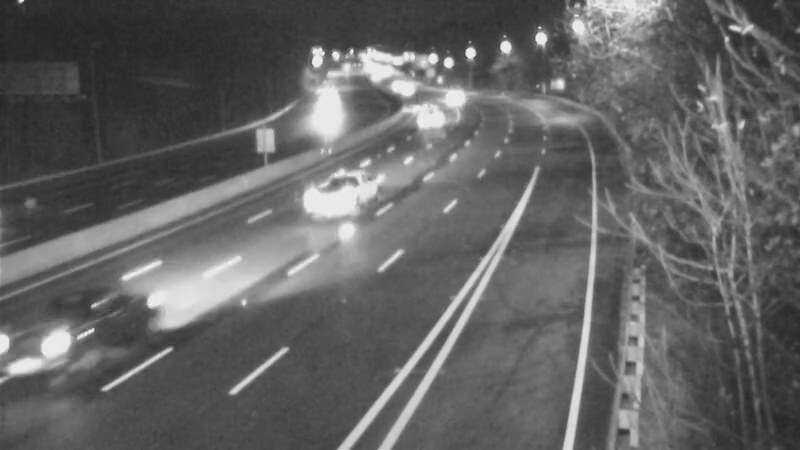vehicle: (12, 281, 122, 391), (300, 166, 380, 246), (1, 170, 68, 250), (381, 59, 431, 109), (428, 68, 478, 118), (392, 84, 442, 134), (413, 98, 463, 148), (295, 85, 345, 135)
